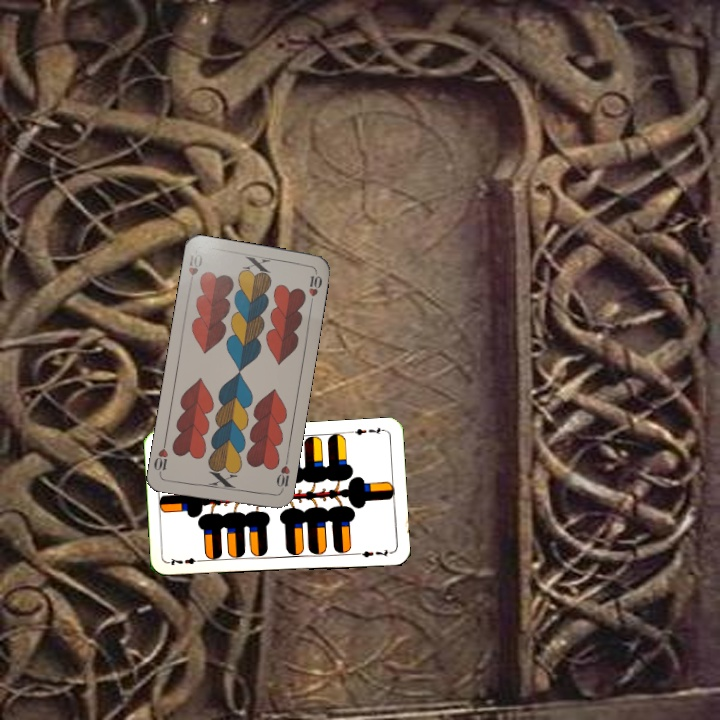E7: (346, 423, 387, 438), (165, 554, 206, 568)
H10: (184, 249, 205, 289), (272, 455, 292, 495)
